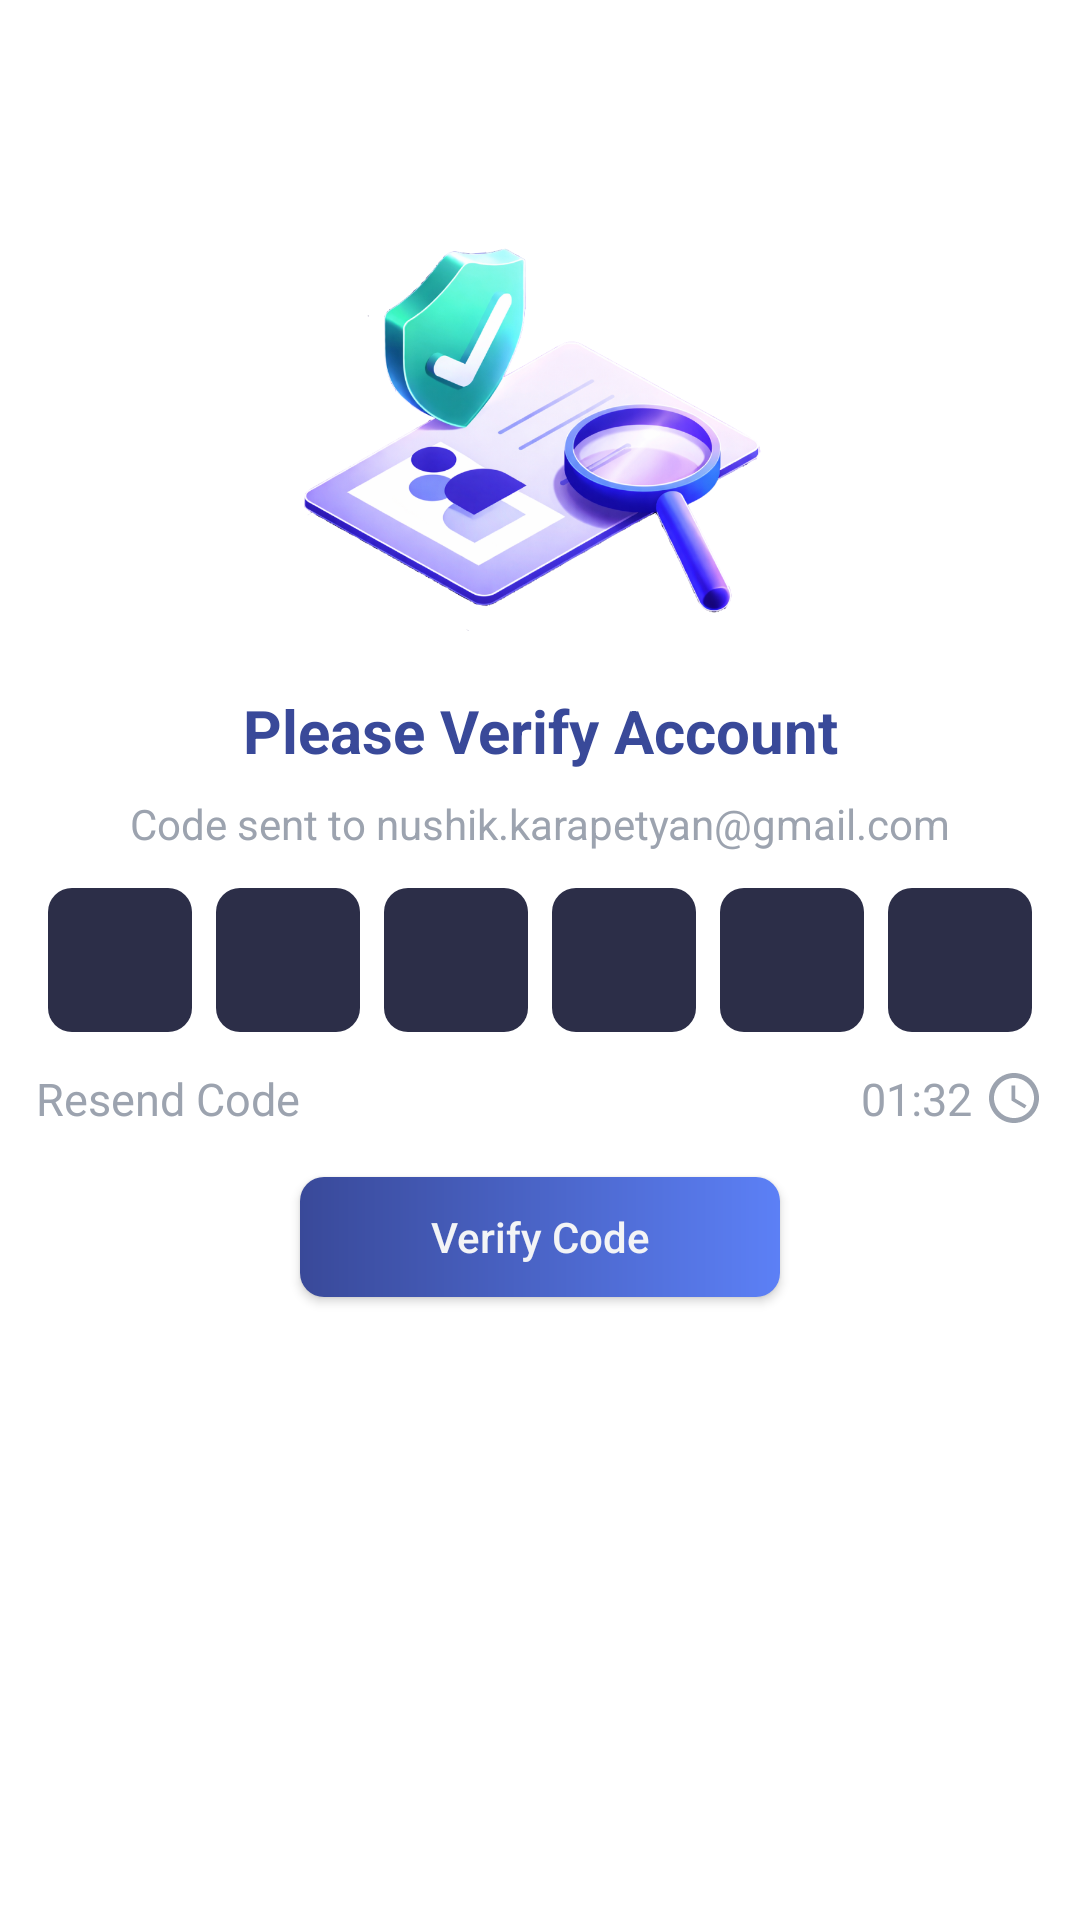

Where icons sit on this 1080×1920 app screen, as (x1=x1, y1=y1, x2=x2, y2=y2):
time: (x1=989, y1=1073, x2=1039, y2=1123)
